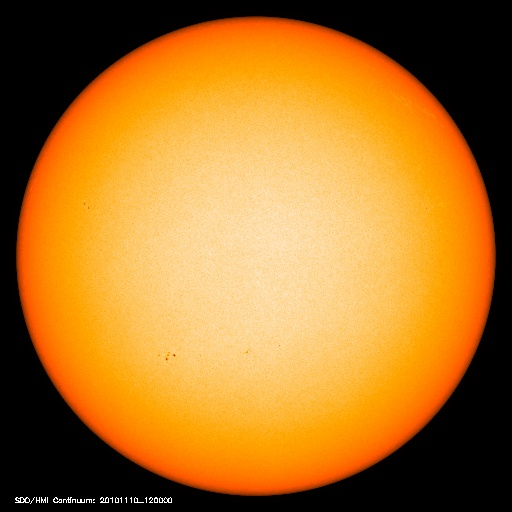sunspot: (236, 334, 290, 359), (150, 338, 187, 369), (77, 192, 102, 219)
